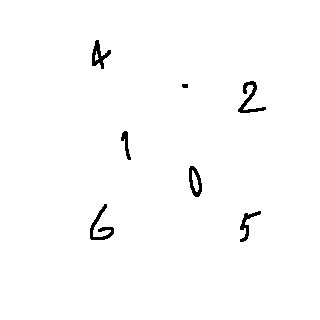.: (177, 79, 195, 97)
0: (179, 163, 218, 208)
1: (112, 124, 143, 166)
4: (227, 73, 277, 121), (77, 33, 118, 75)
5: (235, 203, 266, 253)
6: (81, 197, 126, 254)
